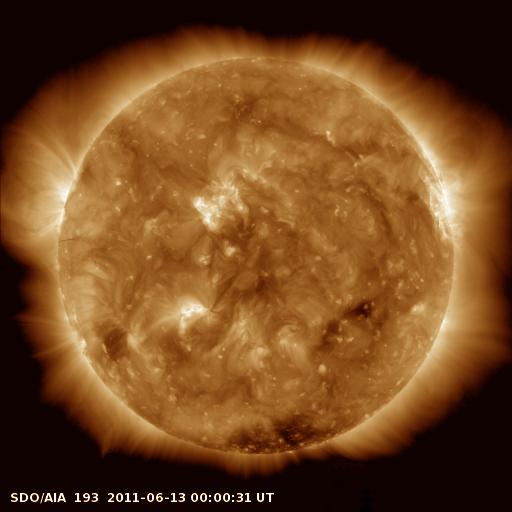coronal_hole: (212, 419, 337, 460)
